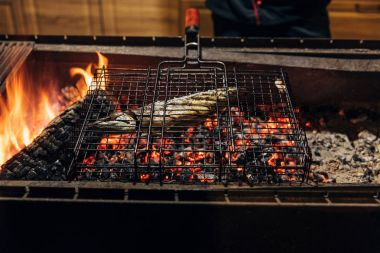fire: (4, 85, 50, 144), (71, 62, 95, 94)
